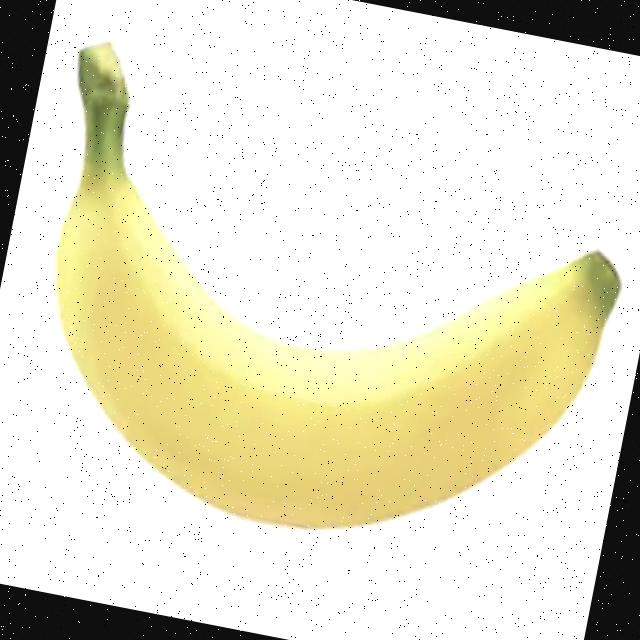Ripe: (0, 12, 640, 587)
